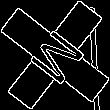M_SE: (21, 21, 89, 89)
